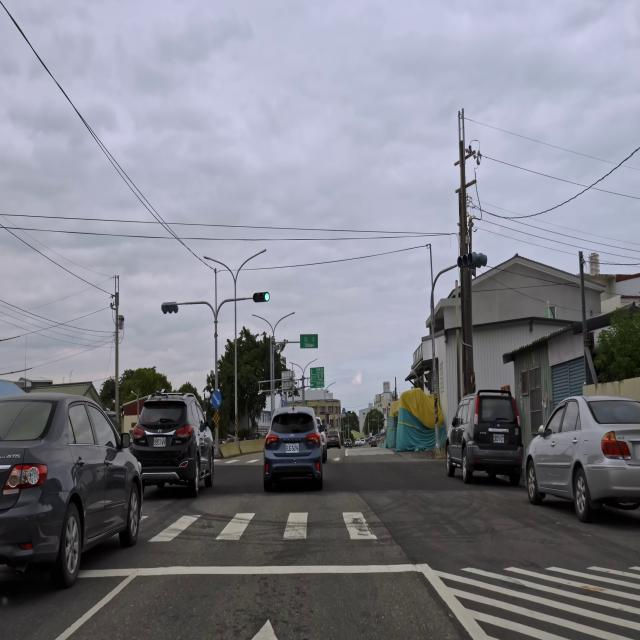green light: (252, 292, 270, 303)
